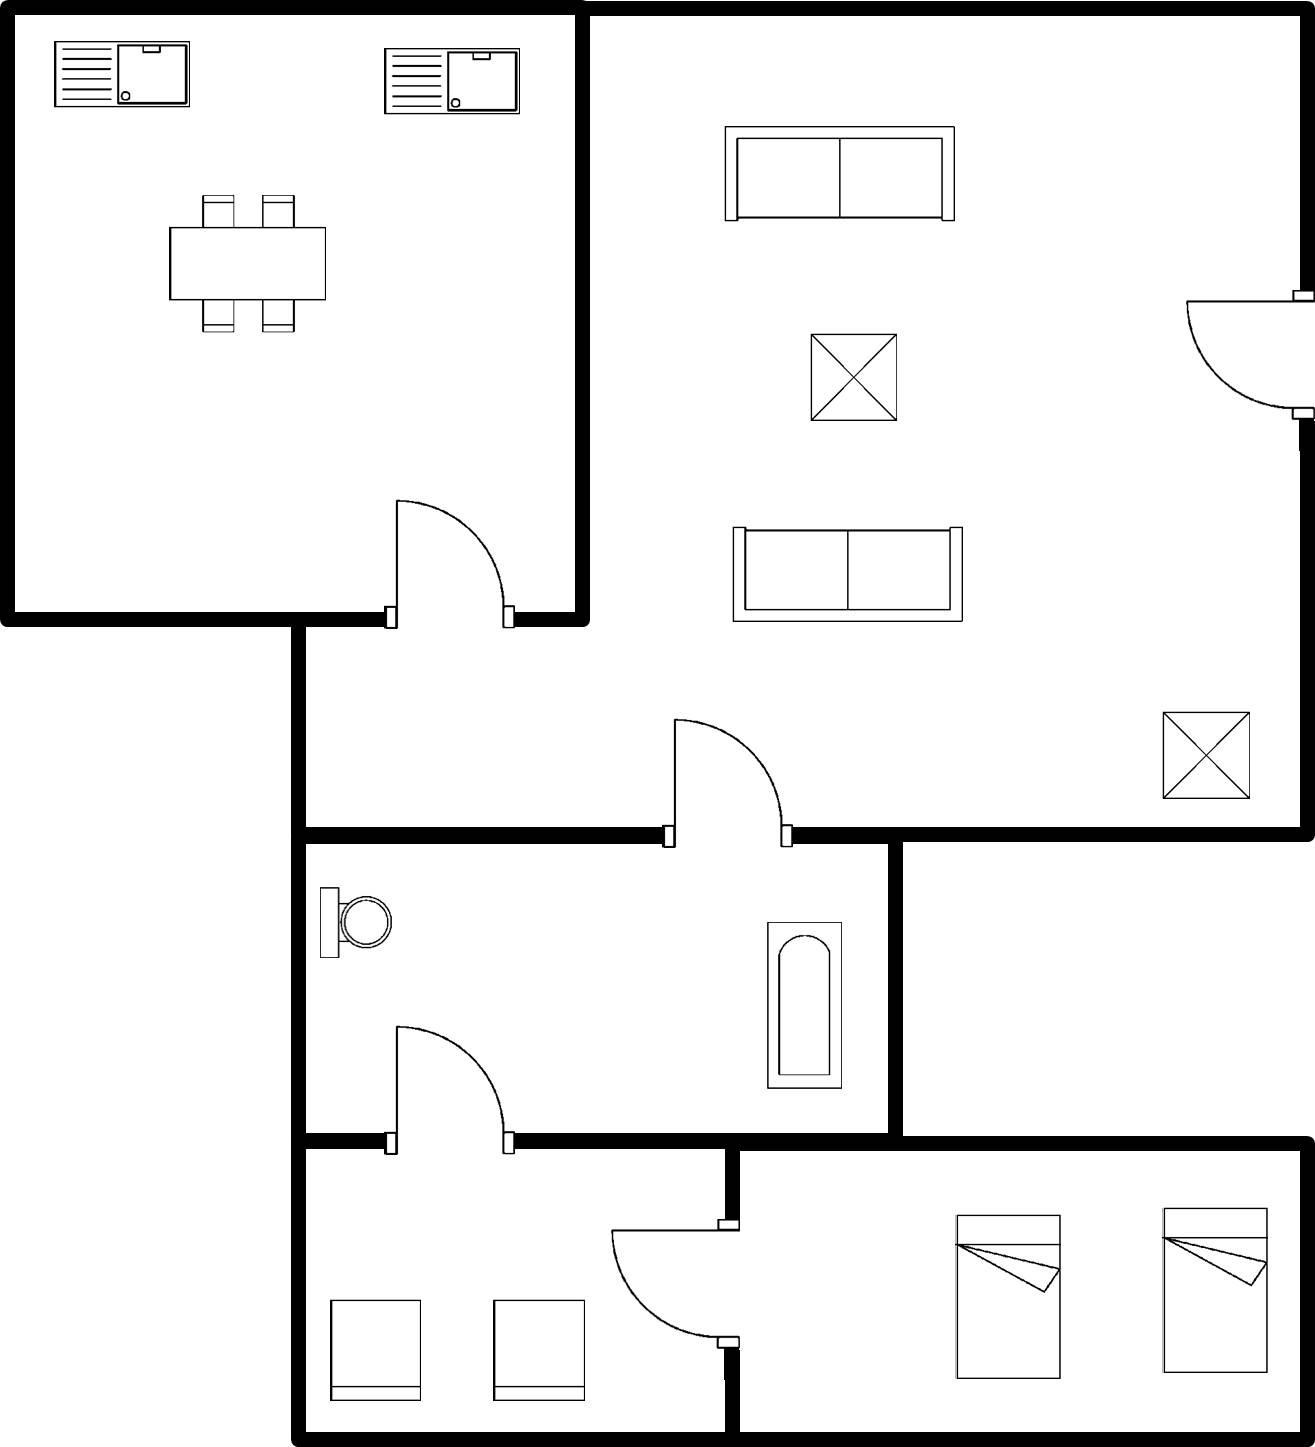bed: (941, 1197, 1074, 1392), (1150, 1191, 1278, 1388)
dining_table: (160, 178, 340, 339)
sink: (42, 30, 200, 118), (371, 37, 527, 122)
sofa: (709, 113, 972, 229), (720, 518, 975, 633)
toilet: (310, 872, 398, 967)
tub: (756, 908, 854, 1098)
